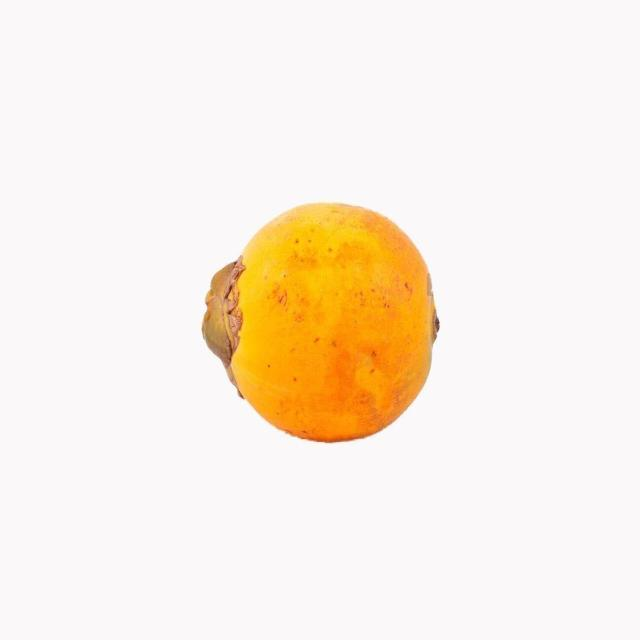good: (200, 202, 440, 445)
